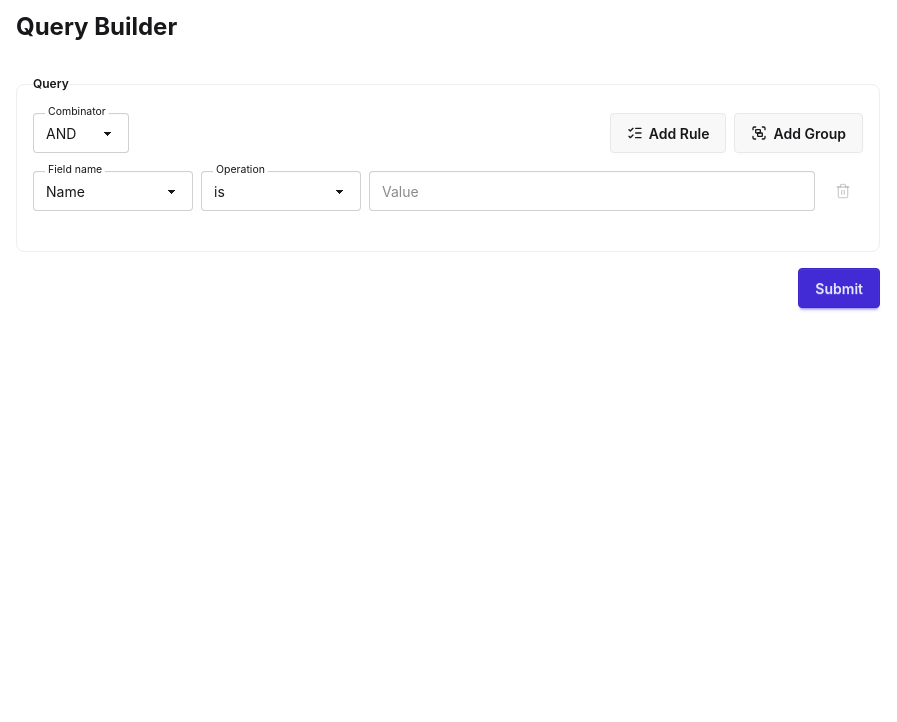
Test: submitting the query › sends the chosen transaction state
Select "Transaction state" in the dropdown labelled "Field name" at (113, 191), box [33,171,193,211]
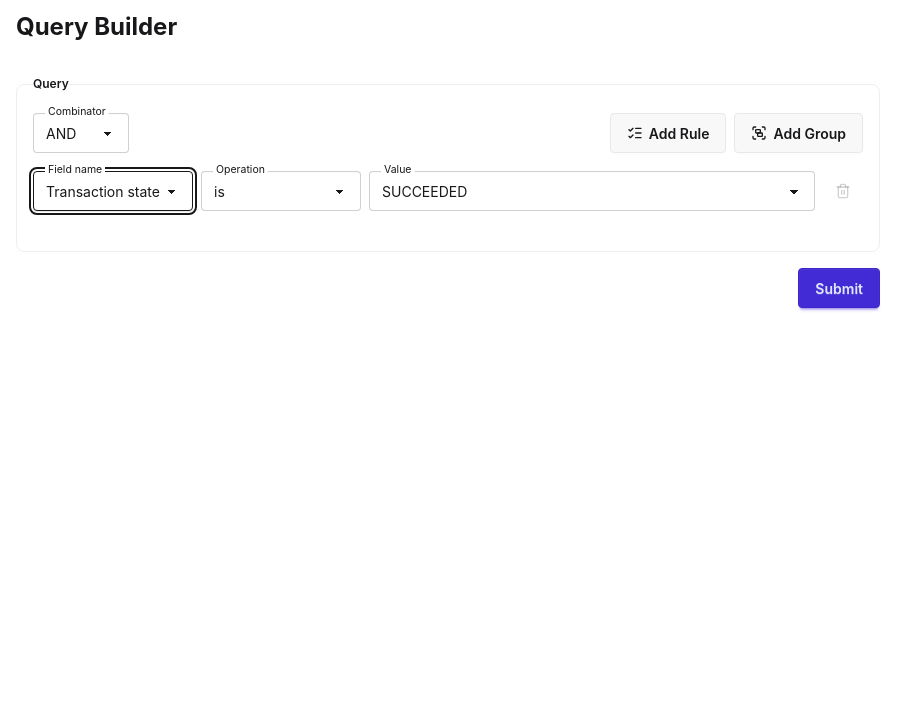
Select "REJECTED" in the dropdown labelled "Value" at (592, 191), box [369,171,815,211]
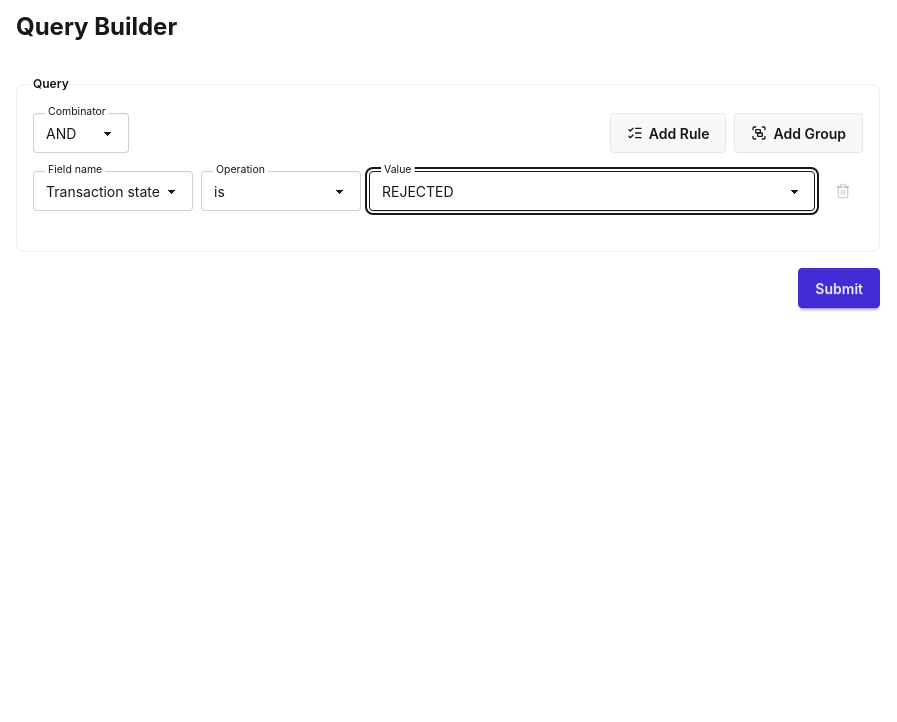
Click the button "Submit" at (839, 288), box [798,268,880,308]
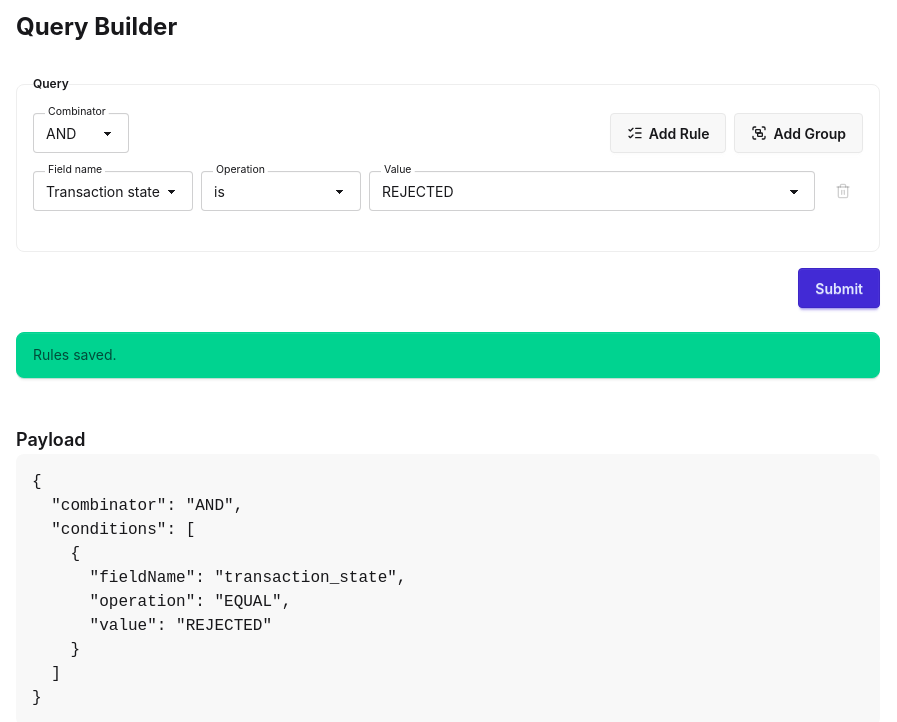
Now the text "Rules saved." is shown, box [16,332,880,378]
